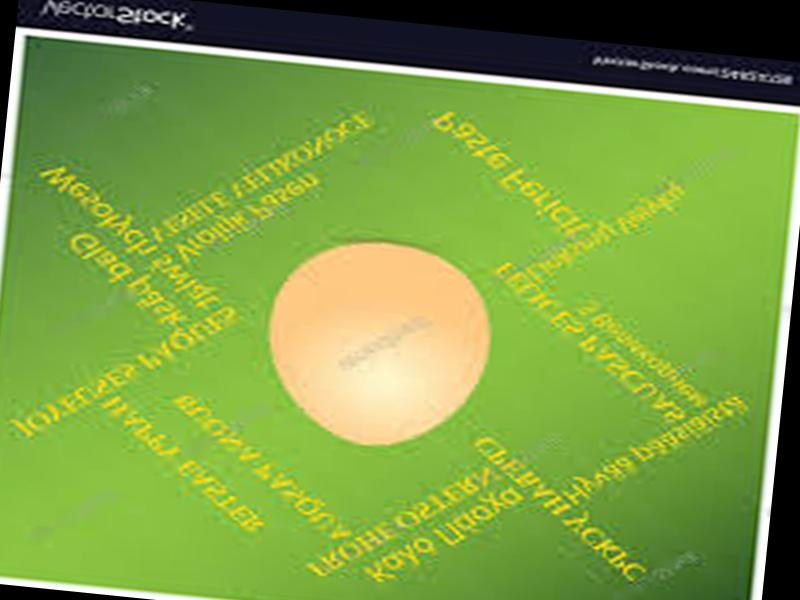Eggs: (262, 234, 499, 451)
